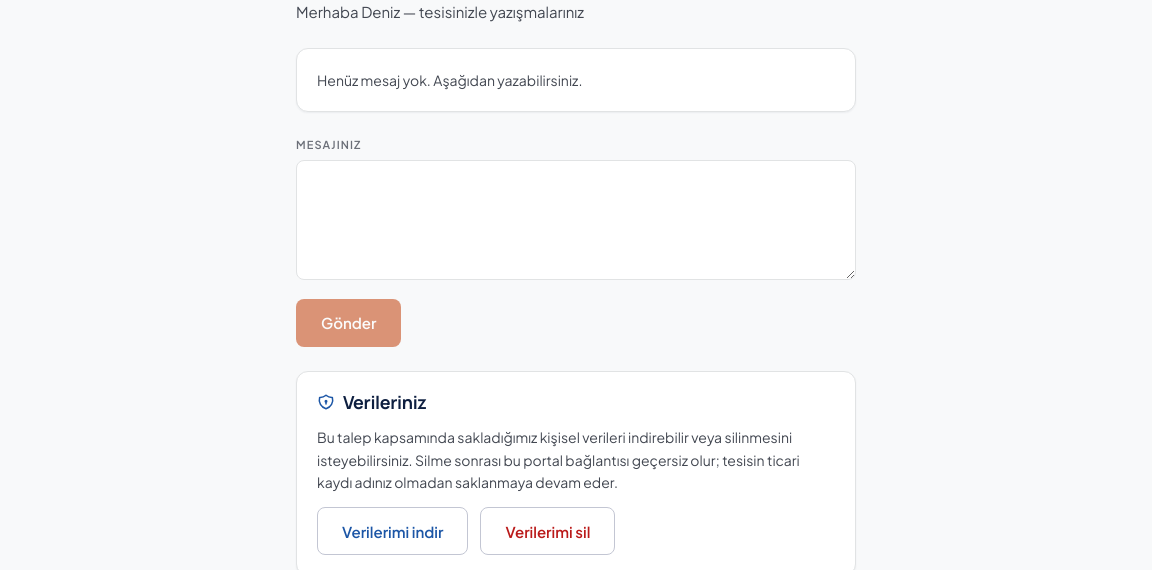
InquiryPortalClient › veri silmeyi onaydan önce göndermez; vazgeçince istek atılmaz
Click the button "Verilerimi sil" at (548, 531), box [480, 507, 615, 555]
(page scrolled)
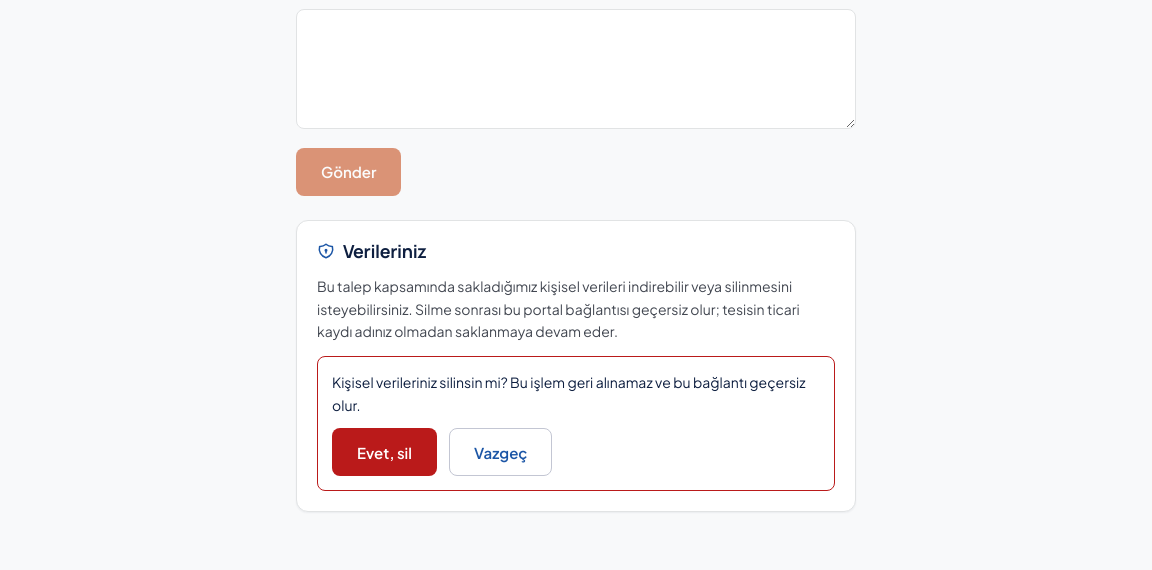
Click the button "Vazgeç" at (501, 452), box [449, 428, 552, 476]
(page scrolled)
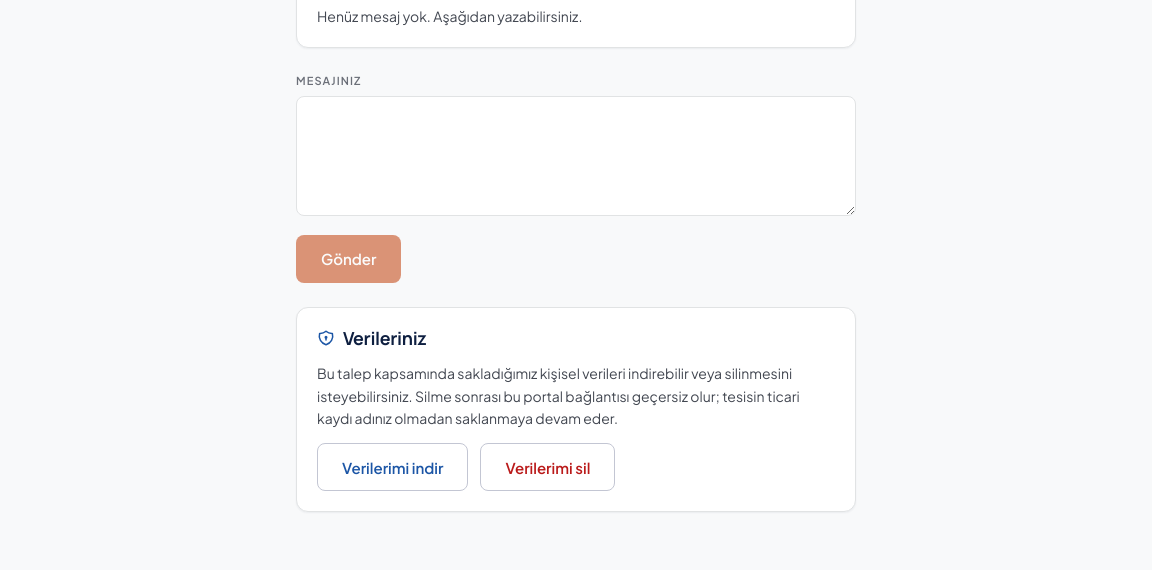
Click the button "Verilerimi sil" at (548, 467), box [480, 443, 615, 491]
(page scrolled)
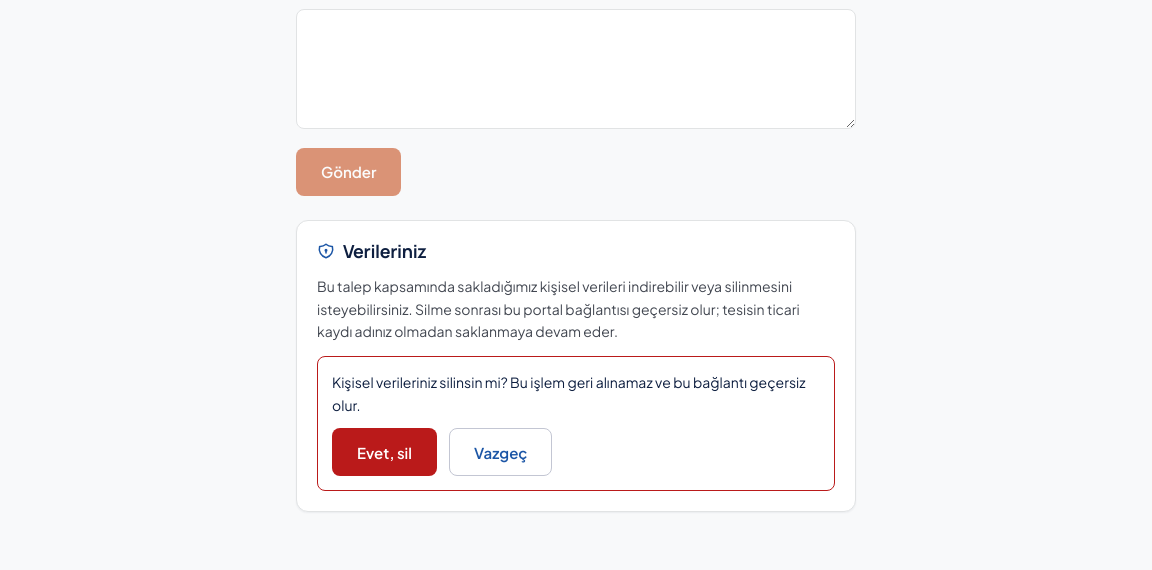
Click the button "Evet, sil" at (384, 452), box [332, 428, 437, 476]
(page scrolled)
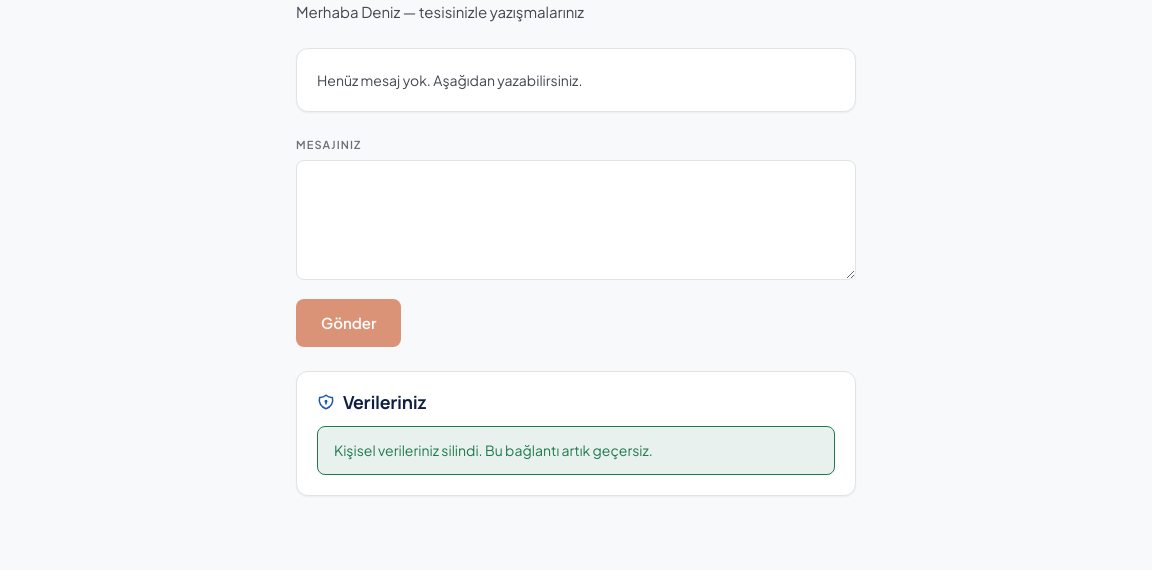
Result: the text "Kişisel verileriniz silindi. Bu bağlantı artık geçersiz." is shown at [317, 426, 835, 475]
